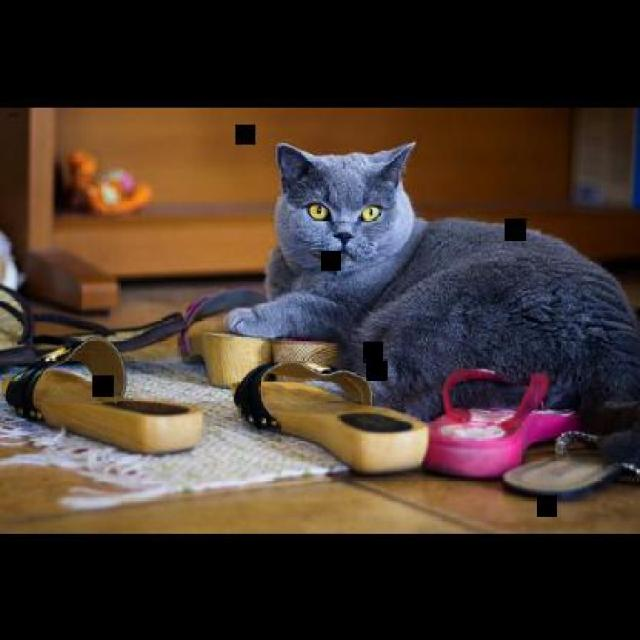unauthorized: (224, 138, 638, 430)
